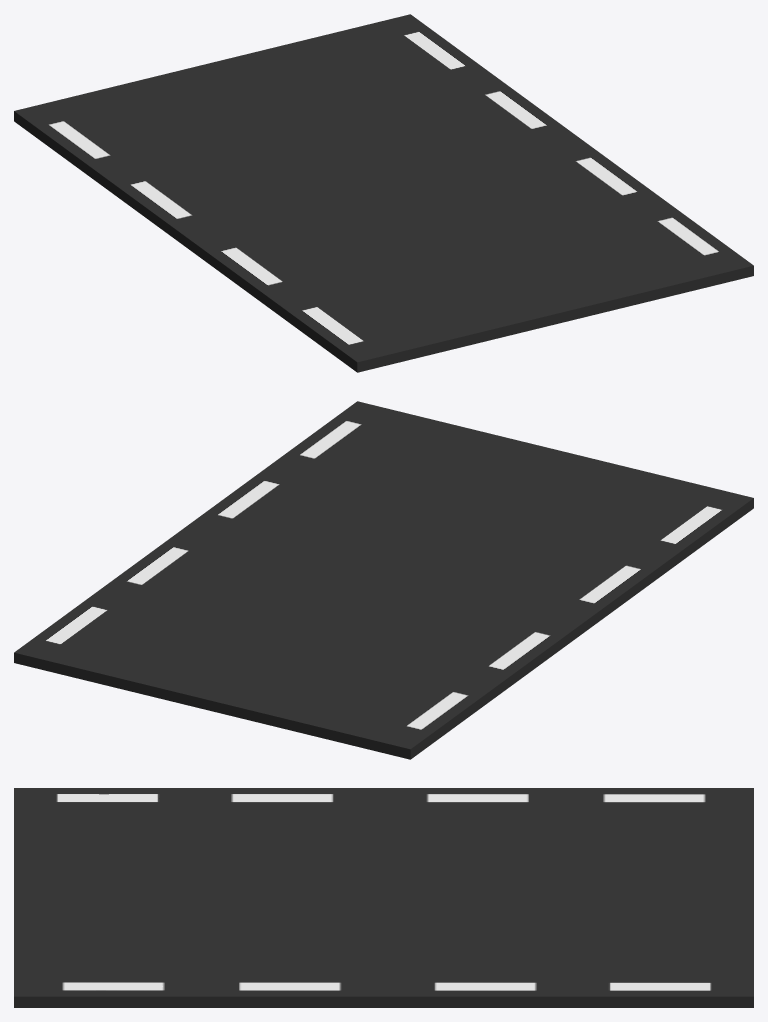
Rendered from Road_Normal.fbx.
The picture shows the model from 3 angles, top to bottom: view 1: azimuth 30°, elevation 25°; view 2: azimuth 150°, elevation 25°; view 3: azimuth 270°, elevation 25°; orthographic projection. The views are drawn at different scales.
Parts seen in each view (by area): view 1: plainRoad1; view 2: plainRoad1; view 3: plainRoad1.
Boxes of the visible parts, box(x1,y1,x2,y2) form: plainRoad1: box(14, 14, 753, 372); plainRoad1: box(14, 401, 753, 759); plainRoad1: box(14, 788, 753, 1007).
Bounding box in the file's own units: 2 × 0.05 × 3.
Materials: 1 (1 with a texture image).
